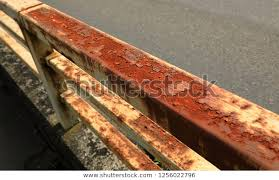rust: (198, 102, 273, 157), (31, 3, 96, 56), (134, 115, 180, 159), (108, 41, 150, 86)
